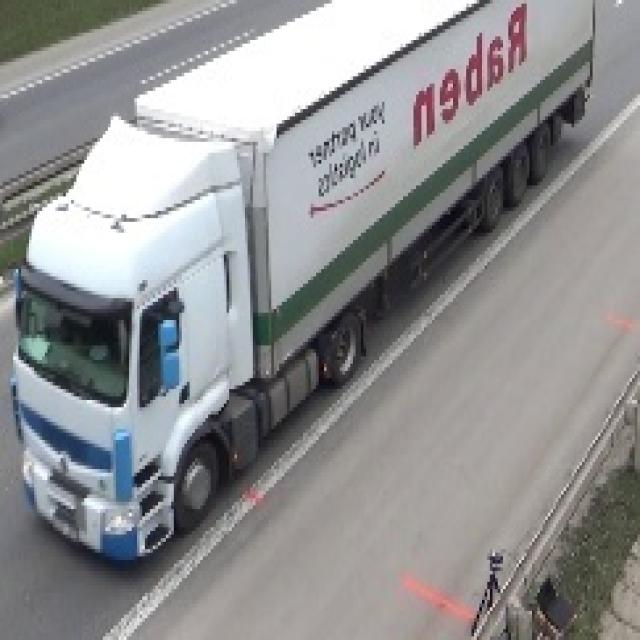TRUCK: (9, 6, 603, 574)
